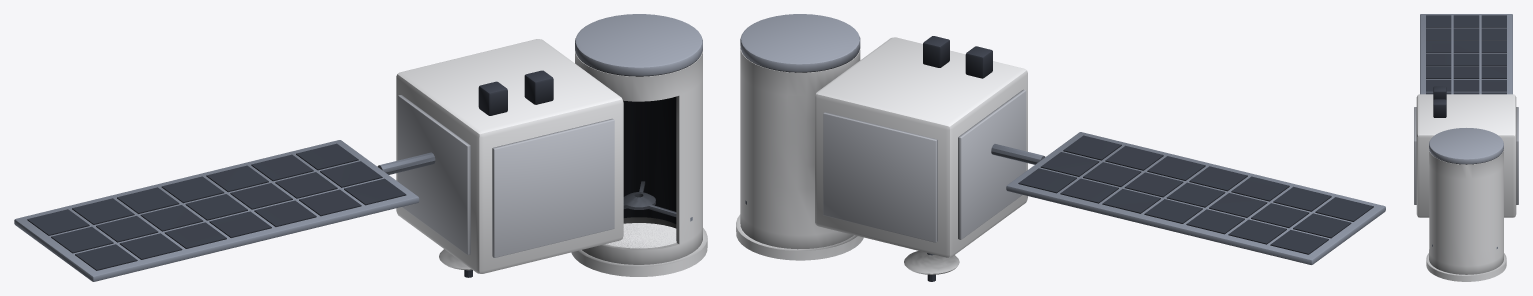
File: observation-satellite.envelope.glb
The picture shows the model from 3 angles, left to right: view 1: azimuth 30°, elevation 25°; view 2: azimuth 150°, elevation 25°; view 3: azimuth 270°, elevation 25°; orthographic projection. The views are drawn at different scales.
Visible parts, largest first — view 1: observation-satellite.white, observation-satellite.graphite, observation-satellite.light, observation-satellite.metal, observation-satellite.mid; view 2: observation-satellite.white, observation-satellite.graphite, observation-satellite.light, observation-satellite.metal, observation-satellite.mid; view 3: observation-satellite.white, observation-satellite.graphite, observation-satellite.mid, observation-satellite.metal, observation-satellite.light.
Boxes of the visible parts, x1,y1,x2,y2 form: observation-satellite.white: [396, 39, 707, 276]; observation-satellite.graphite: [27, 70, 676, 277]; observation-satellite.light: [398, 95, 614, 257]; observation-satellite.metal: [14, 140, 692, 281]; observation-satellite.mid: [575, 14, 702, 76]; observation-satellite.white: [736, 37, 1027, 274]; observation-satellite.graphite: [923, 36, 1373, 281]; observation-satellite.light: [823, 89, 1026, 242]; observation-satellite.metal: [745, 132, 1385, 264]; observation-satellite.mid: [740, 14, 860, 72]; observation-satellite.white: [1416, 94, 1516, 281]; observation-satellite.graphite: [1426, 15, 1506, 117]; observation-satellite.mid: [1429, 128, 1503, 164]; observation-satellite.metal: [1420, 14, 1512, 248]; observation-satellite.light: [1414, 107, 1518, 204].
Bounding box in the file's own units: 1.97 × 0.6429 × 0.474.
